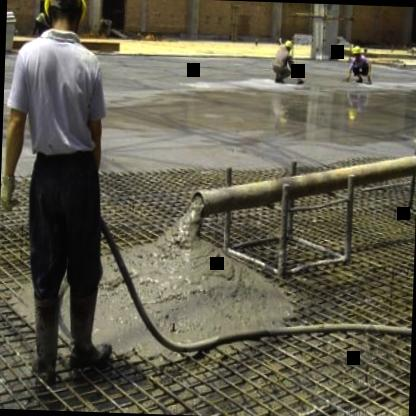helmet: (36, 0, 88, 40), (282, 36, 292, 56), (352, 42, 363, 60)
